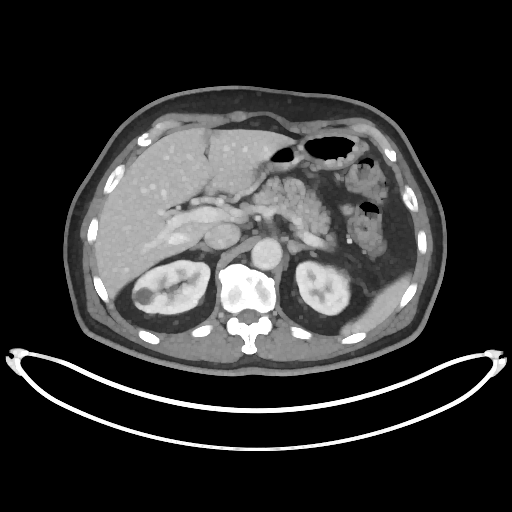Lesion: (135, 286, 154, 306)
